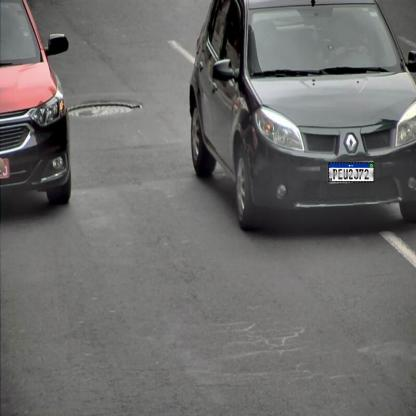PlacaM: (328, 162, 375, 183)
